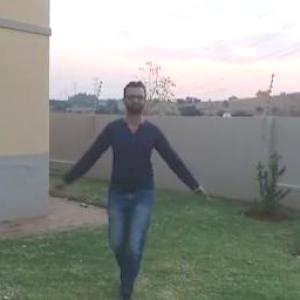land: (73, 92, 188, 290)
